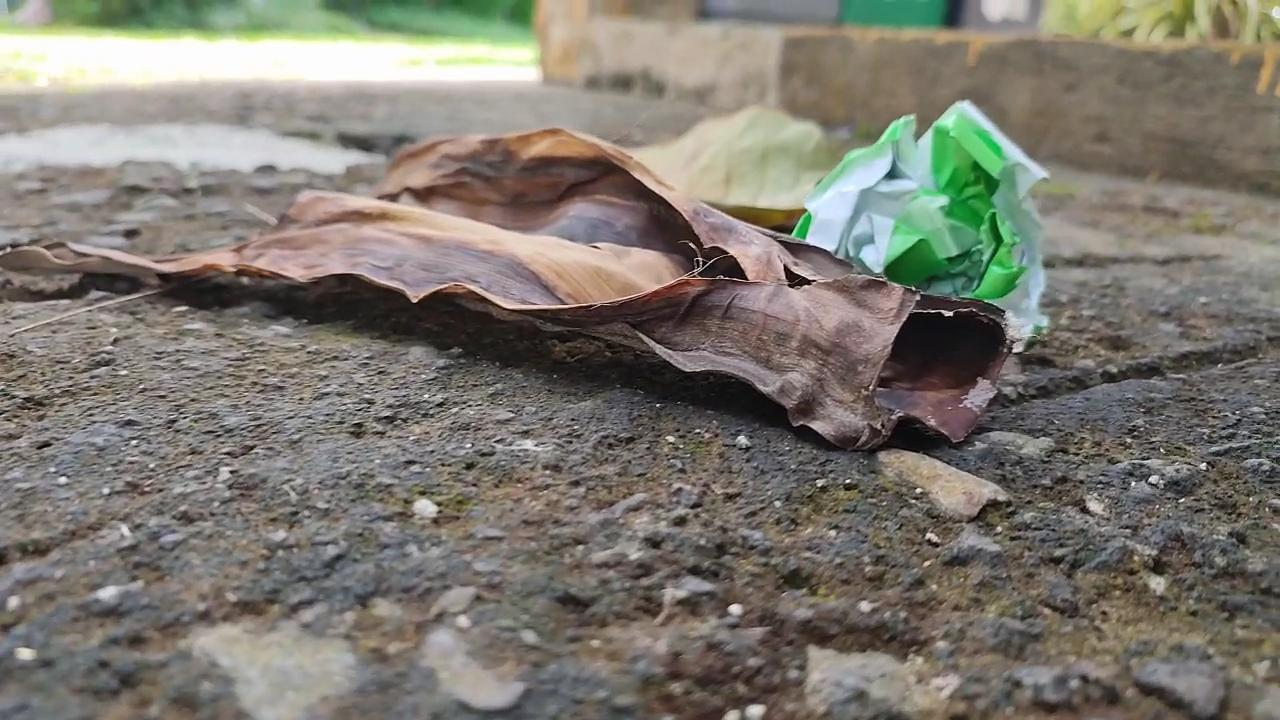Paper: (773, 84, 1052, 346)
